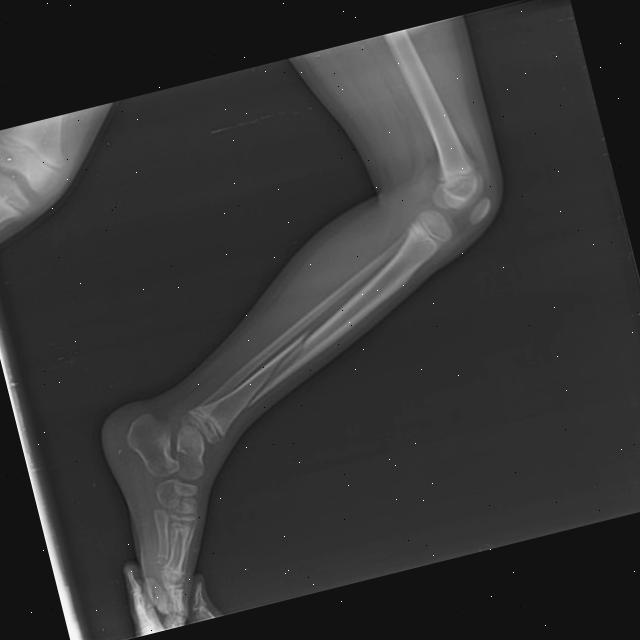Fracture: (240, 323, 316, 409)
